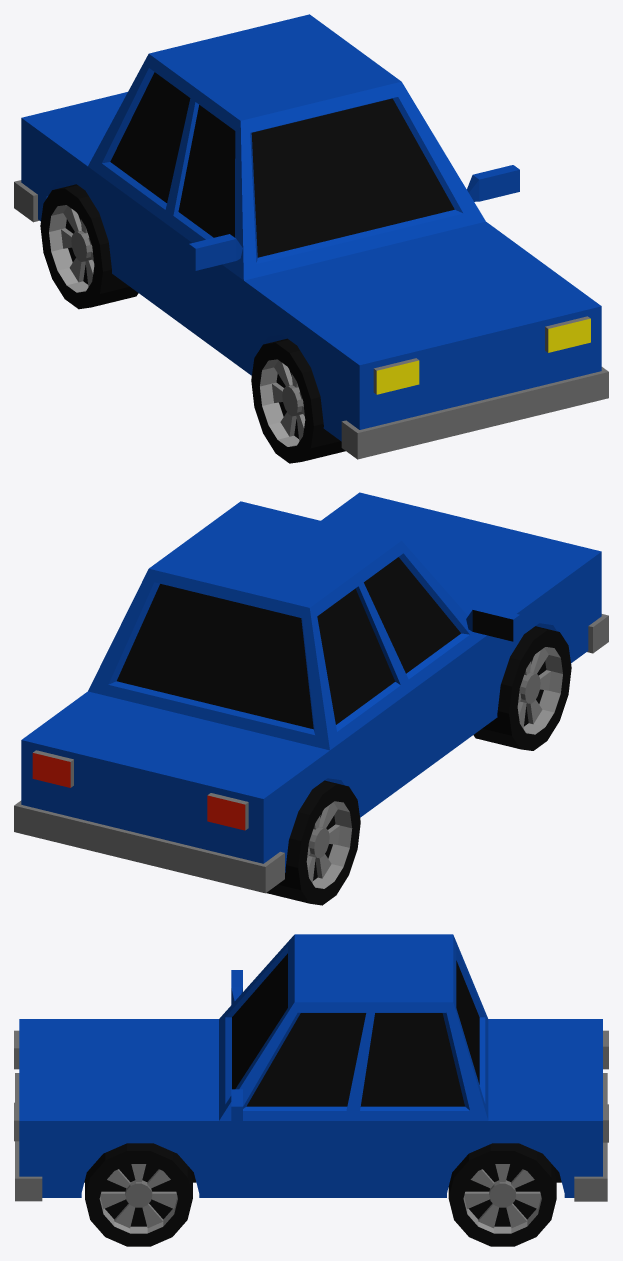
The model's file is carblue.fbx.
3 views of the same model, one above another, from view 1: azimuth 30°, elevation 25°; view 2: azimuth 150°, elevation 25°; view 3: azimuth 270°, elevation 25° (orthographic). The views are drawn at different scales.
Visible parts, largest first — view 1: Cube, Cube.004, Cube.005; view 2: Cube, Cube.004, Cube.005; view 3: Cube, Cube.002, Cube.003.
Part boxes in pixels (x1,y1,x2,y2): Cube: [14, 14, 608, 459]; Cube.004: [251, 338, 345, 463]; Cube.005: [40, 184, 138, 309]; Cube: [14, 492, 608, 893]; Cube.004: [473, 626, 571, 750]; Cube.005: [266, 780, 360, 905]; Cube: [14, 934, 608, 1201]; Cube.002: [85, 1143, 192, 1246]; Cube.003: [448, 1143, 556, 1246].
Bounding box in the file's own units: 329 × 252 × 606.
Materials: 1 (1 with a texture image).
